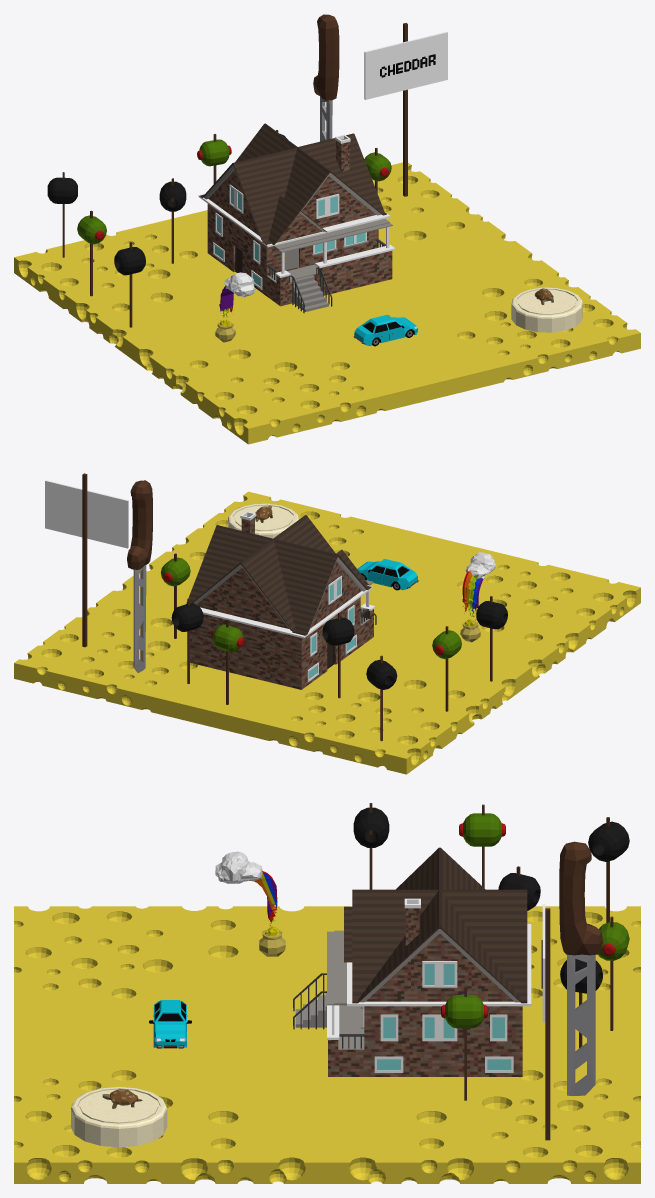
3 views of the same model, one above another, from view 1: azimuth 30°, elevation 25°; view 2: azimuth 150°, elevation 25°; view 3: azimuth 270°, elevation 25° (orthographic). The views are drawn at different scales.
Parts seen in each view (by area): view 1: Cube.022, Cube.117, Cube.023, Cylinder.016, Cube.024, VEHICLES_CAR, OBJRANDOM_RAINBOW, Sphere.017, Sphere.016, Sphere.020, Sphere.018, Sphere.022 (+1 smaller); view 2: Cube.022, Cube.117, Cube.023, Cube.024, OBJRANDOM_RAINBOW, Cylinder.016, VEHICLES_CAR, Sphere.017, Sphere.020, Sphere.021, Sphere.016, Sphere.018 (+2 smaller); view 3: Cube.022, Cube.117, Cube.024, Cylinder.016, OBJRANDOM_RAINBOW, Cube.023, VEHICLES_CAR, Sphere.019, Sphere.016, Sphere.018, Sphere.017, Sphere.022 (+2 smaller).
Part boxes in pixels (x1,y1,x2,y2): Cube.022: (14, 162, 640, 444); Cube.117: (198, 123, 395, 313); Cube.023: (364, 23, 447, 196); Cylinder.016: (511, 287, 582, 332); Cube.024: (313, 14, 339, 141); VEHICLES_CAR: (353, 314, 417, 346); OBJRANDOM_RAINBOW: (215, 272, 255, 342); Sphere.017: (114, 242, 145, 327); Sphere.016: (47, 172, 77, 257); Sphere.020: (159, 178, 186, 263); Sphere.018: (77, 210, 106, 296); Sphere.022: (197, 134, 231, 183); Cube.022: (14, 491, 640, 774); Cube.117: (185, 511, 376, 689); Cube.023: (45, 473, 128, 647); Cube.024: (127, 480, 152, 672); OBJRANDOM_RAINBOW: (460, 552, 495, 642); Cylinder.016: (228, 503, 298, 538); VEHICLES_CAR: (357, 559, 418, 590); Sphere.017: (476, 596, 507, 681); Sphere.020: (322, 612, 354, 698); Sphere.021: (171, 598, 203, 683); Sphere.016: (366, 655, 397, 741); Sphere.018: (432, 626, 461, 711); Cube.022: (14, 906, 640, 1183); Cube.117: (293, 847, 531, 1076); Cube.024: (559, 841, 602, 1095); Cylinder.016: (71, 1086, 167, 1147); OBJRANDOM_RAINBOW: (215, 851, 285, 956); Cube.023: (541, 904, 550, 1140); VEHICLES_CAR: (149, 1000, 191, 1048); Sphere.019: (441, 986, 487, 1100); Sphere.016: (588, 817, 629, 922); Sphere.018: (459, 804, 505, 887); Sphere.017: (353, 803, 389, 889); Sphere.022: (598, 916, 629, 1030).
Bounding box in the file's own units: 3917 × 2108 × 4000.
Materials: 43 (4 with a texture image).
